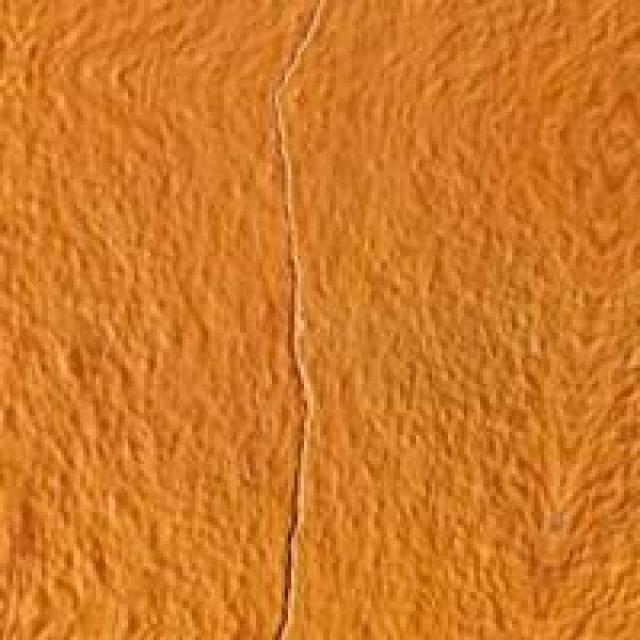Crack: (224, 13, 403, 637)
